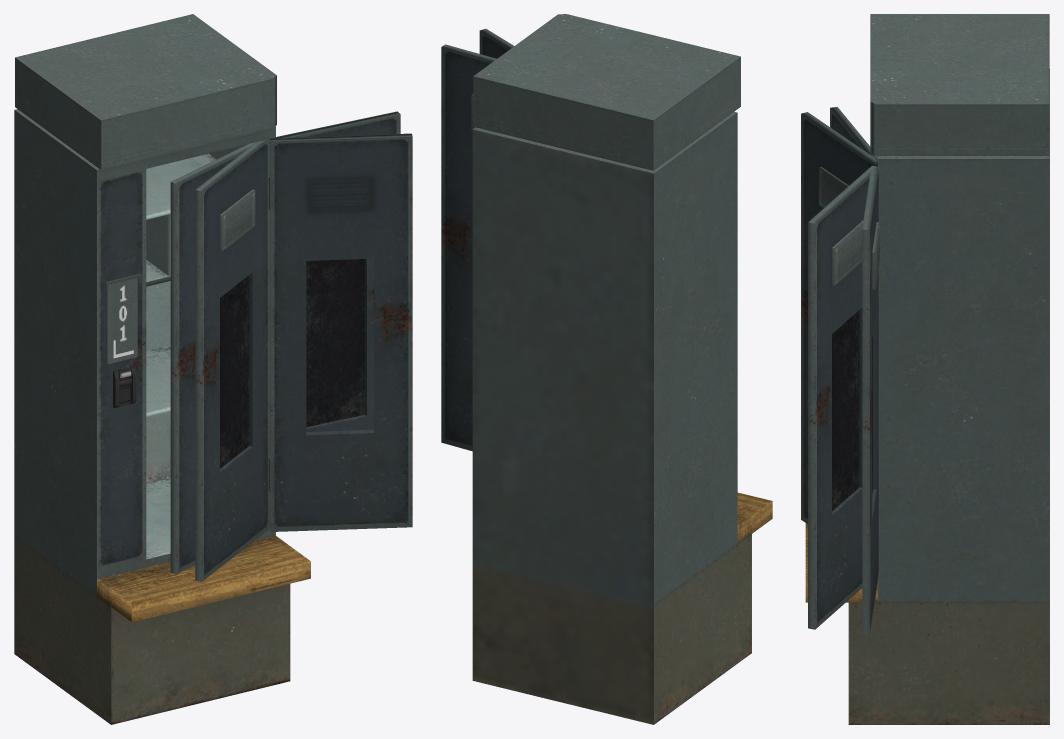
Rendered from 218_ElectronicLocker.fbx.
3 views of the same model, side by side, from view 1: azimuth 30°, elevation 25°; view 2: azimuth 150°, elevation 25°; view 3: azimuth 270°, elevation 25° (orthographic). The views are drawn at different scales.
Parts seen in each view (by area): view 1: LOD_1_Group_0_Sub_1__sm44_005_ElectronicLocker01A_A_Mat__Env, LOD_1_Group_3_Sub_1__sm44_005_ElectronicLocker01A_A_Mat__Env, LOD_1_Group_2_Sub_1__sm44_005_ElectronicLocker01A_A_Mat__Env, LOD_1_Group_1_Sub_1__sm44_005_ElectronicLocker01A_A_Mat__Env, LOD_1_Group_4_Sub_2__sm21_001_FireHydrant01A_A_Mat__Env_Alph, LOD_1_Group_2_Sub_2__sm21_001_FireHydrant01A_A_Mat__Env_Alph, LOD_1_Group_4_Sub_1__sm44_005_ElectronicLocker01A_A_Mat__Env, LOD_1_Group_101_Sub_1__sm44_005_ElectronicLocker01A_A_Mat; view 2: LOD_1_Group_0_Sub_1__sm44_005_ElectronicLocker01A_A_Mat__Env, LOD_1_Group_4_Sub_1__sm44_005_ElectronicLocker01A_A_Mat__Env, LOD_1_Group_3_Sub_1__sm44_005_ElectronicLocker01A_A_Mat__Env; view 3: LOD_1_Group_0_Sub_1__sm44_005_ElectronicLocker01A_A_Mat__Env, LOD_1_Group_3_Sub_1__sm44_005_ElectronicLocker01A_A_Mat__Env, LOD_1_Group_4_Sub_1__sm44_005_ElectronicLocker01A_A_Mat__Env, LOD_1_Group_2_Sub_1__sm44_005_ElectronicLocker01A_A_Mat__Env, LOD_1_Group_3_Sub_2__sm21_001_FireHydrant01A_A_Mat__Env_Alph, LOD_1_Group_1_Sub_1__sm44_005_ElectronicLocker01A_A_Mat__Env.
Boxes of the visible parts, <box> form: LOD_1_Group_0_Sub_1__sm44_005_ElectronicLocker01A_A_Mat__Env: <box>14,14,310,724</box>; LOD_1_Group_3_Sub_1__sm44_005_ElectronicLocker01A_A_Mat__Env: <box>269,133,412,531</box>; LOD_1_Group_2_Sub_1__sm44_005_ElectronicLocker01A_A_Mat__Env: <box>195,139,269,581</box>; LOD_1_Group_1_Sub_1__sm44_005_ElectronicLocker01A_A_Mat__Env: <box>170,140,264,574</box>; LOD_1_Group_4_Sub_2__sm21_001_FireHydrant01A_A_Mat__Env_Alph: <box>306,259,364,426</box>; LOD_1_Group_2_Sub_2__sm21_001_FireHydrant01A_A_Mat__Env_Alph: <box>220,275,249,468</box>; LOD_1_Group_4_Sub_1__sm44_005_ElectronicLocker01A_A_Mat__Env: <box>271,111,400,431</box>; LOD_1_Group_101_Sub_1__sm44_005_ElectronicLocker01A_A_Mat: <box>106,278,137,364</box>; LOD_1_Group_0_Sub_1__sm44_005_ElectronicLocker01A_A_Mat__Env: <box>472,14,772,724</box>; LOD_1_Group_4_Sub_1__sm44_005_ElectronicLocker01A_A_Mat__Env: <box>441,44,496,451</box>; LOD_1_Group_3_Sub_1__sm44_005_ElectronicLocker01A_A_Mat__Env: <box>479,28,514,58</box>; LOD_1_Group_0_Sub_1__sm44_005_ElectronicLocker01A_A_Mat__Env: <box>805,14,1049,724</box>; LOD_1_Group_3_Sub_1__sm44_005_ElectronicLocker01A_A_Mat__Env: <box>808,165,877,629</box>; LOD_1_Group_4_Sub_1__sm44_005_ElectronicLocker01A_A_Mat__Env: <box>862,168,879,635</box>; LOD_1_Group_2_Sub_1__sm44_005_ElectronicLocker01A_A_Mat__Env: <box>801,112,877,524</box>; LOD_1_Group_3_Sub_2__sm21_001_FireHydrant01A_A_Mat__Env_Alph: <box>832,310,859,511</box>; LOD_1_Group_1_Sub_1__sm44_005_ElectronicLocker01A_A_Mat__Env: <box>830,106,877,164</box>.
Bounding box in the file's own units: 1.16 × 2.23 × 0.8106.
